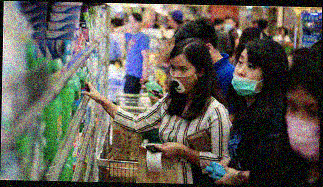mask_weared_incorrect: (230, 52, 264, 97)
with_mask: (283, 92, 320, 159), (168, 61, 199, 94)
without_mask: (127, 18, 141, 33)
